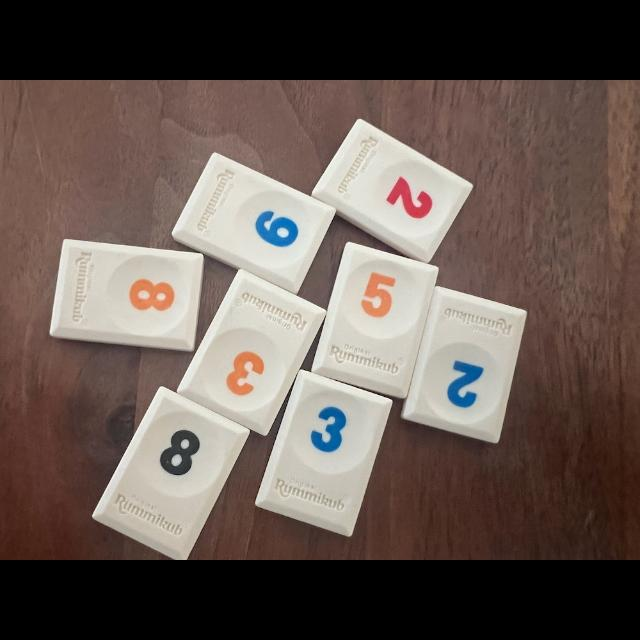black_8: (92, 386, 249, 559)
blue_2: (401, 286, 526, 442)
blue_3: (256, 372, 392, 538)
blue_9: (172, 154, 335, 294)
orange_3: (178, 270, 326, 435)
orange_5: (311, 242, 438, 398)
orange_8: (50, 239, 204, 351)
red_2: (312, 119, 472, 262)
